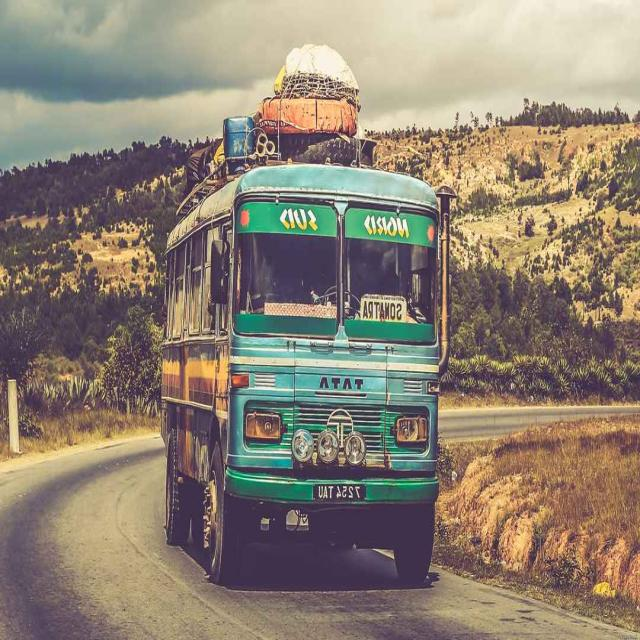bus: (161, 165, 452, 584)
